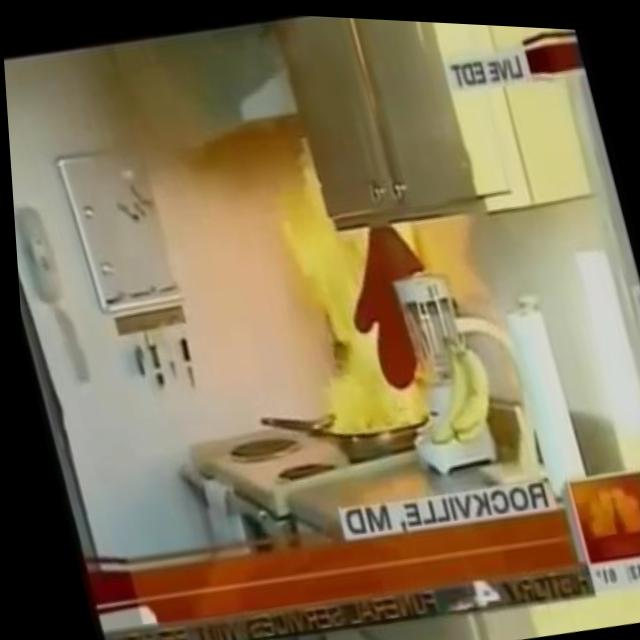fire: (242, 111, 457, 446)
